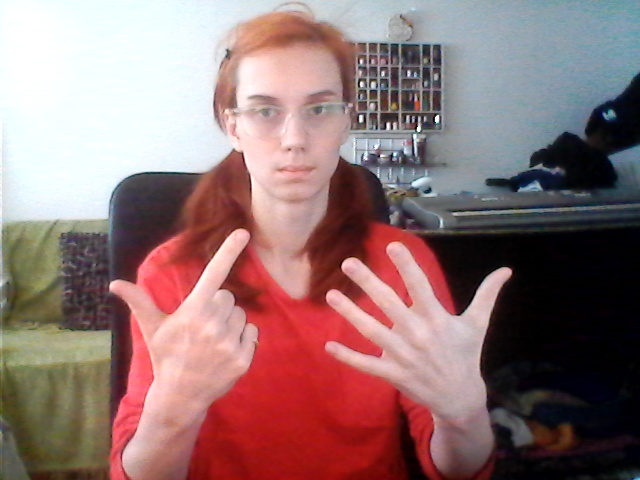sedem: (93, 223, 516, 401)
